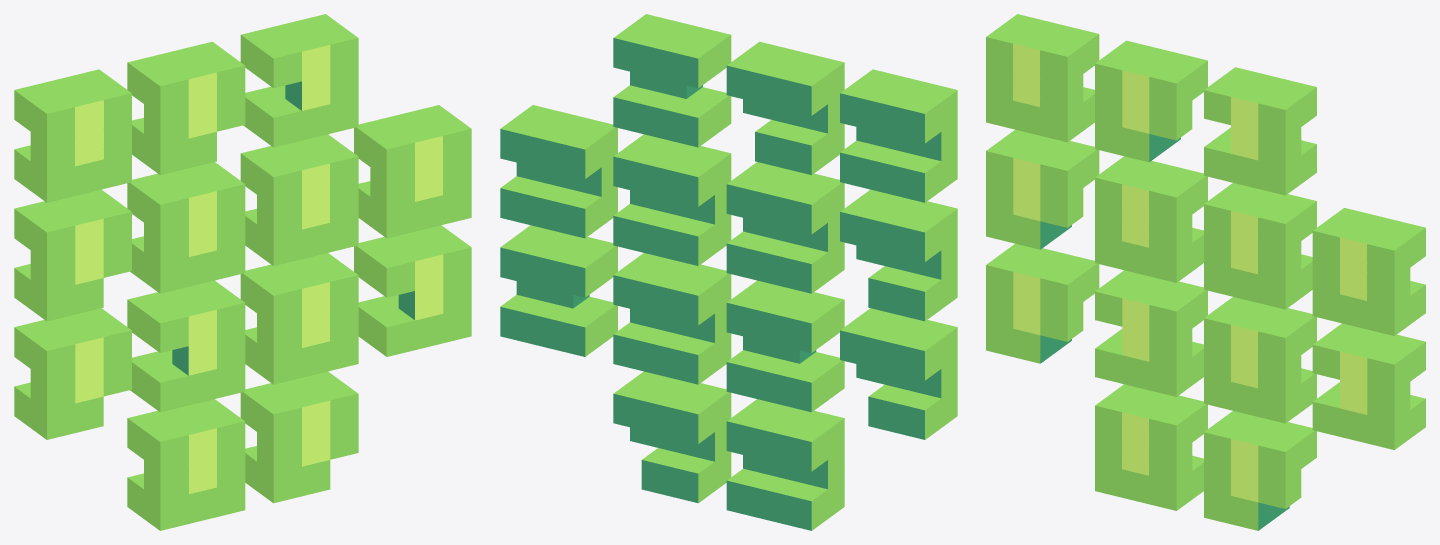
File: m_deco_vines1.glb
3 renders of one model, left to right at view 1: azimuth 30°, elevation 25°; view 2: azimuth 150°, elevation 25°; view 3: azimuth 330°, elevation 25°, orthographic. The views are drawn at different scales.
Parts seen in each view (by area): view 1: vine3.001; view 2: vine3.001; view 3: vine3.001.
Boxes of the visible parts, <box> form: vine3.001: <box>14,14,471,530</box>; vine3.001: <box>500,14,957,530</box>; vine3.001: <box>986,14,1425,530</box>.
Size of the model in its own units: 0.9375 by 0.9375 by 0.125.
Materials: 3 (3 with a texture image).
